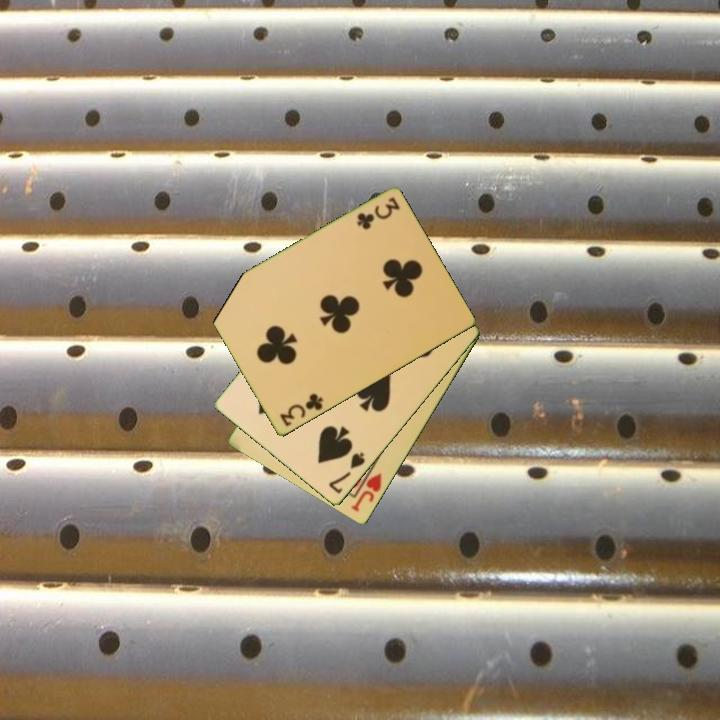3c: (276, 390, 326, 430), (353, 194, 403, 232)
7s: (325, 449, 368, 497)
Jh: (347, 470, 385, 515)
